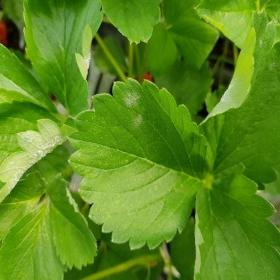Powdery Mildew Leaf: (65, 76, 209, 251), (200, 0, 279, 193), (193, 163, 279, 279), (22, 0, 106, 116), (0, 97, 76, 205), (45, 173, 98, 271)
